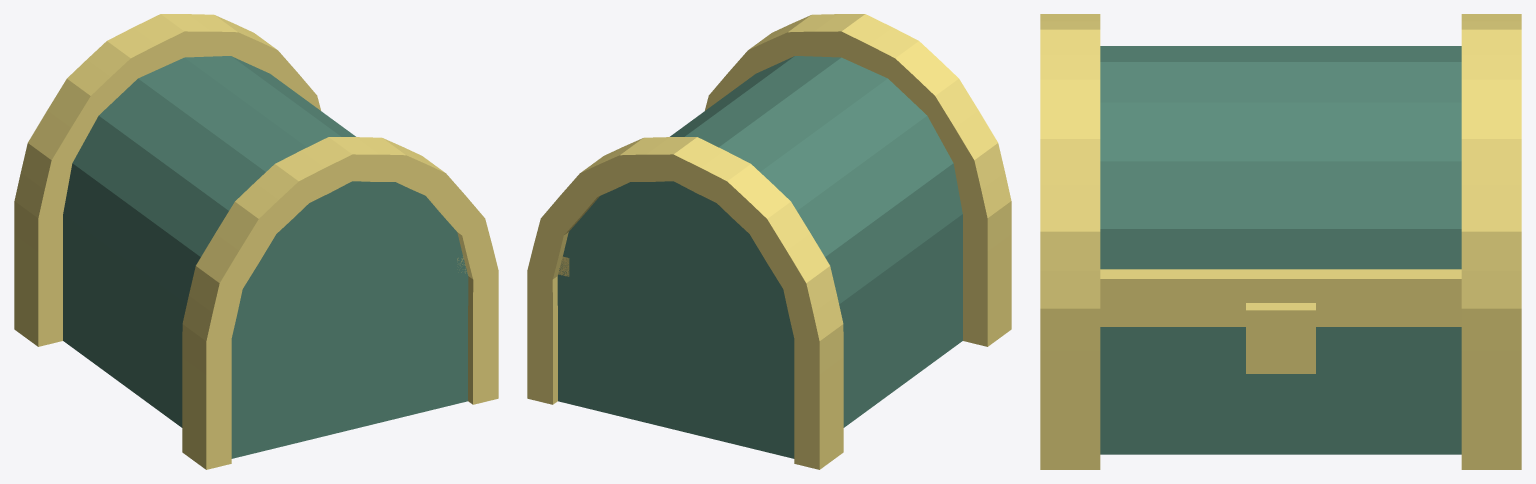
The model's file is chest.glb.
The picture shows the model from 3 angles, left to right: view 1: azimuth 30°, elevation 25°; view 2: azimuth 150°, elevation 25°; view 3: azimuth 270°, elevation 25°; orthographic projection. The views are drawn at different scales.
Parts seen in each view (by area): view 1: Cube.169; view 2: Cube.169; view 3: Cube.169.
Part boxes in pixels (box(x1,y1,x2,y2)): Cube.169: box(14, 14, 498, 469); Cube.169: box(527, 14, 1011, 469); Cube.169: box(1040, 14, 1521, 469).
Bounding box in the file's own units: 2.41 × 2.21 × 2.74.
